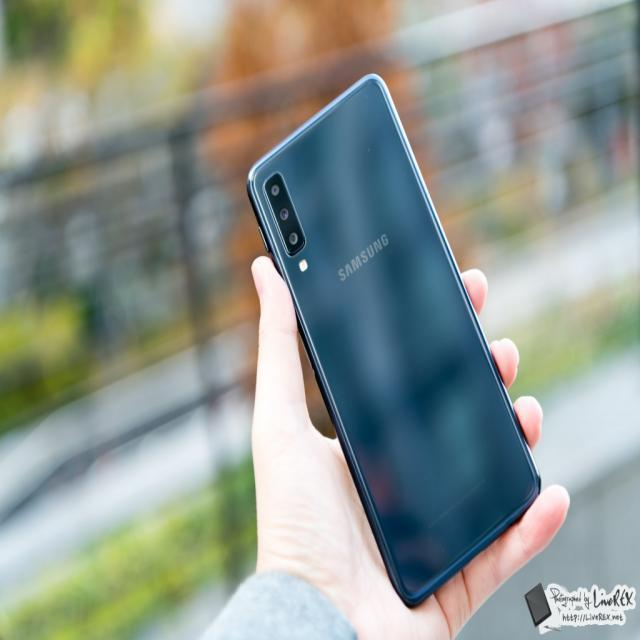phone: (248, 70, 544, 609)
